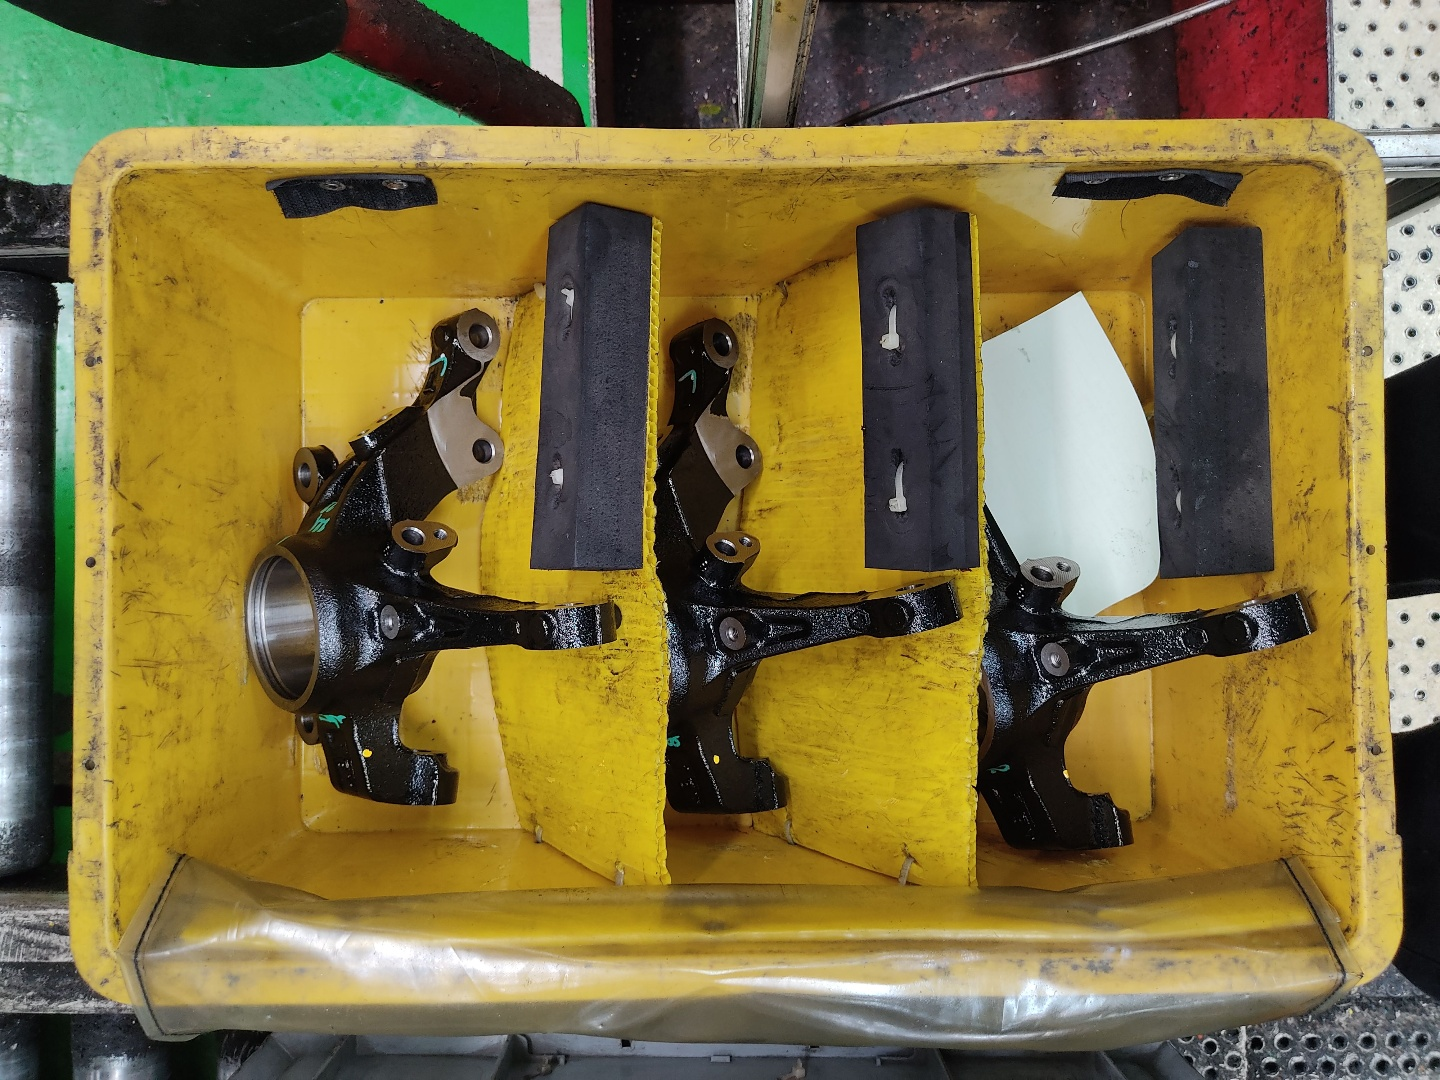abs-lh: (962, 310, 1325, 870), (240, 299, 628, 816), (632, 310, 969, 832)
